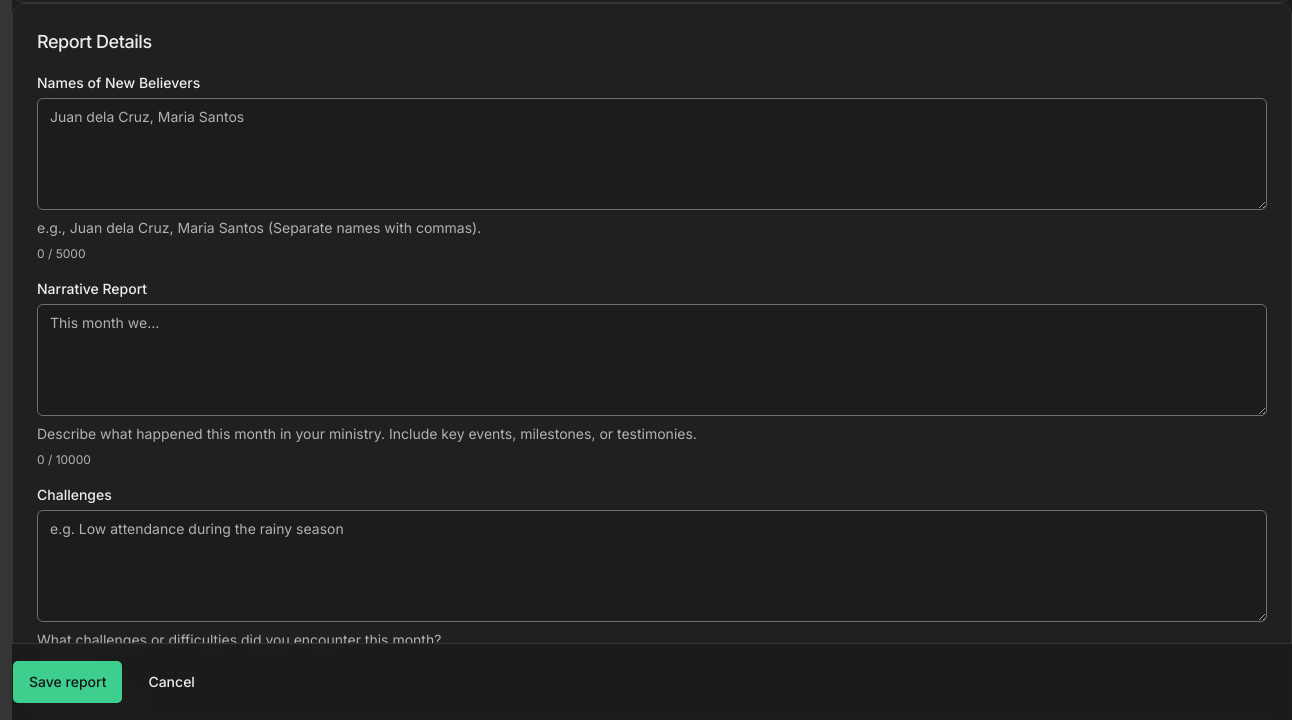
Test: ReportForm › maps a 409 onto the month field and keeps what was typed
(page scrolled)
In the text box labelled "Narrative Report": [652, 360] box [37,304,1267,416], type "keep me"
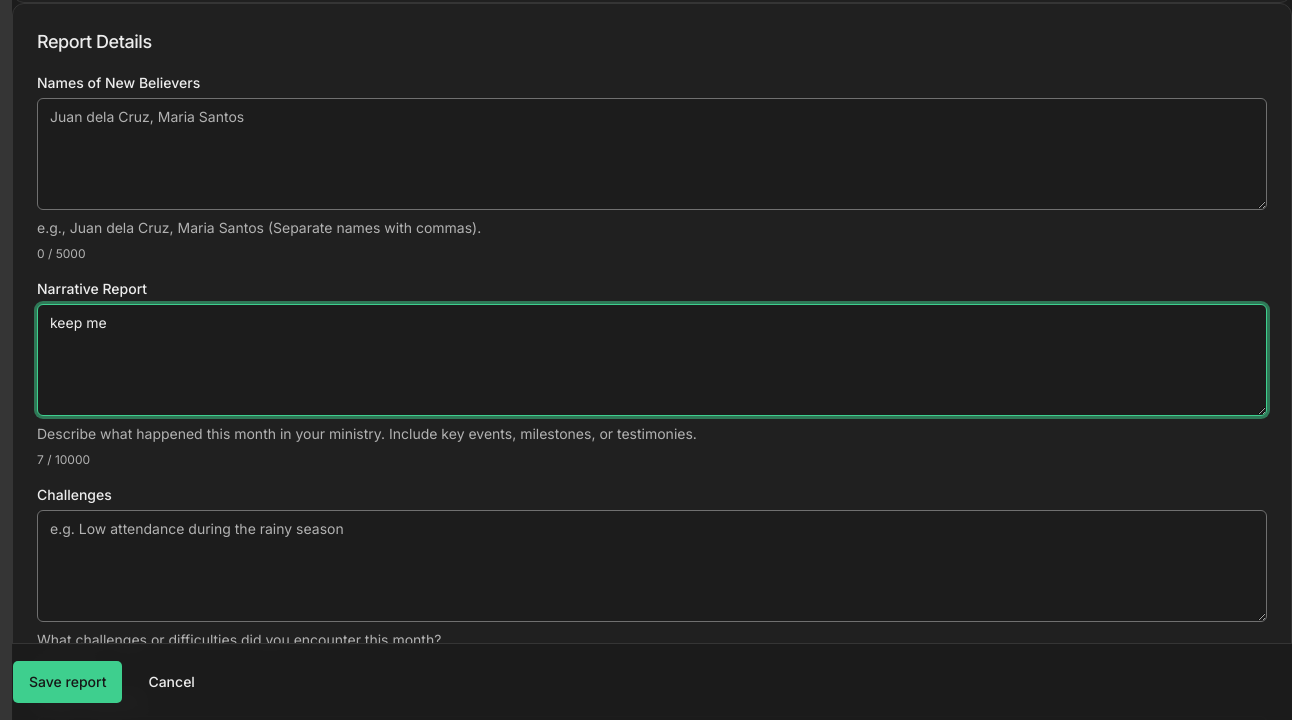
Click the button "Save report": [68, 682] box [12,660,123,704]
(page scrolled)
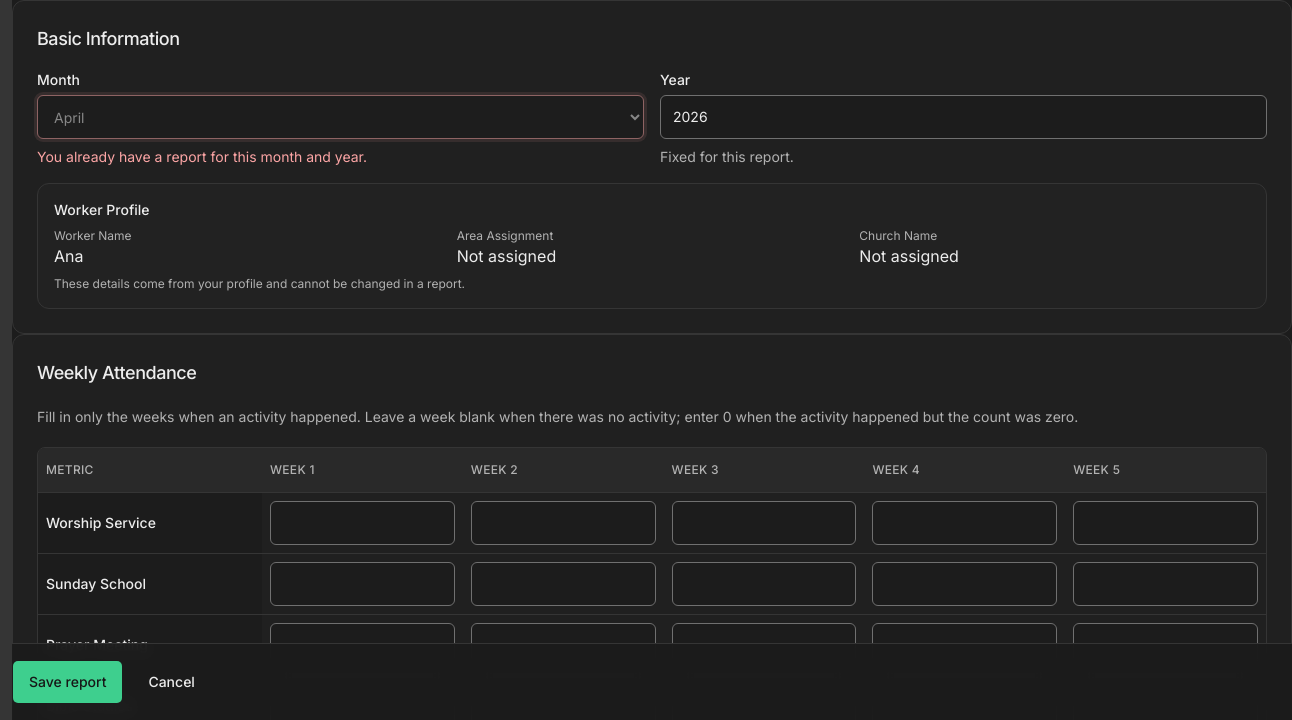
Expected: the text "You already have a report for this month and year." is shown, [37,148,367,165]
